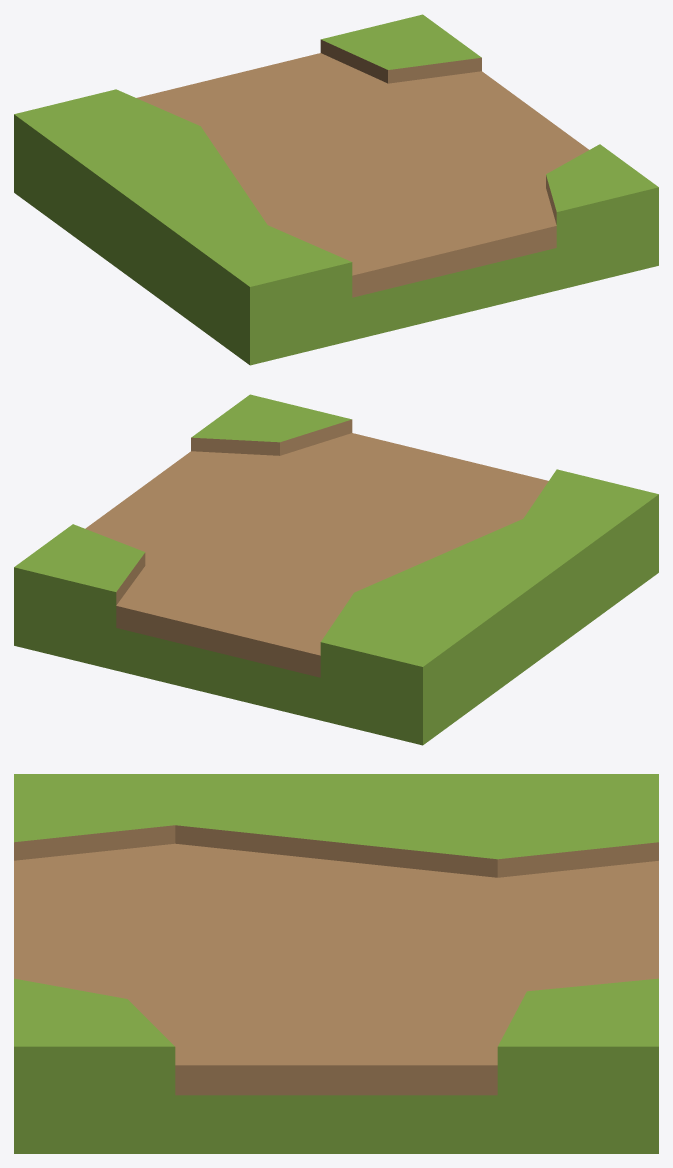
File: tile202.dae
3 renders of one model, top to bottom at view 1: azimuth 30°, elevation 25°; view 2: azimuth 150°, elevation 25°; view 3: azimuth 270°, elevation 25°, orthographic. The views are drawn at different scales.
Parts seen in each view (by area): view 1: tile202; view 2: tile202; view 3: tile202.
Part boxes in pixels (<box>): tile202: <box>14,14,658,365</box>; tile202: <box>14,394,658,745</box>; tile202: <box>14,774,658,1153</box>.
Bounding box in the file's own units: 1 × 0.1833 × 1.
